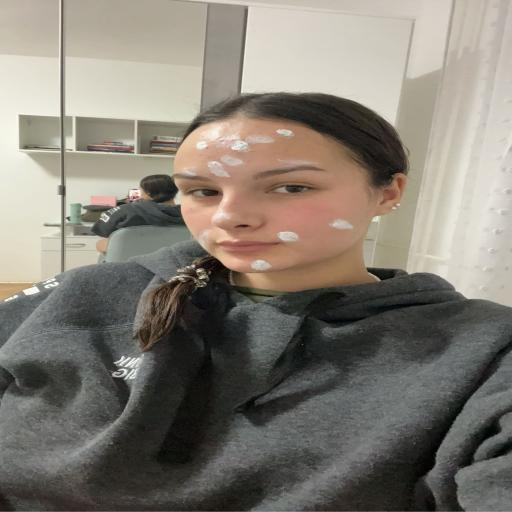marija: (173, 119, 374, 273)
